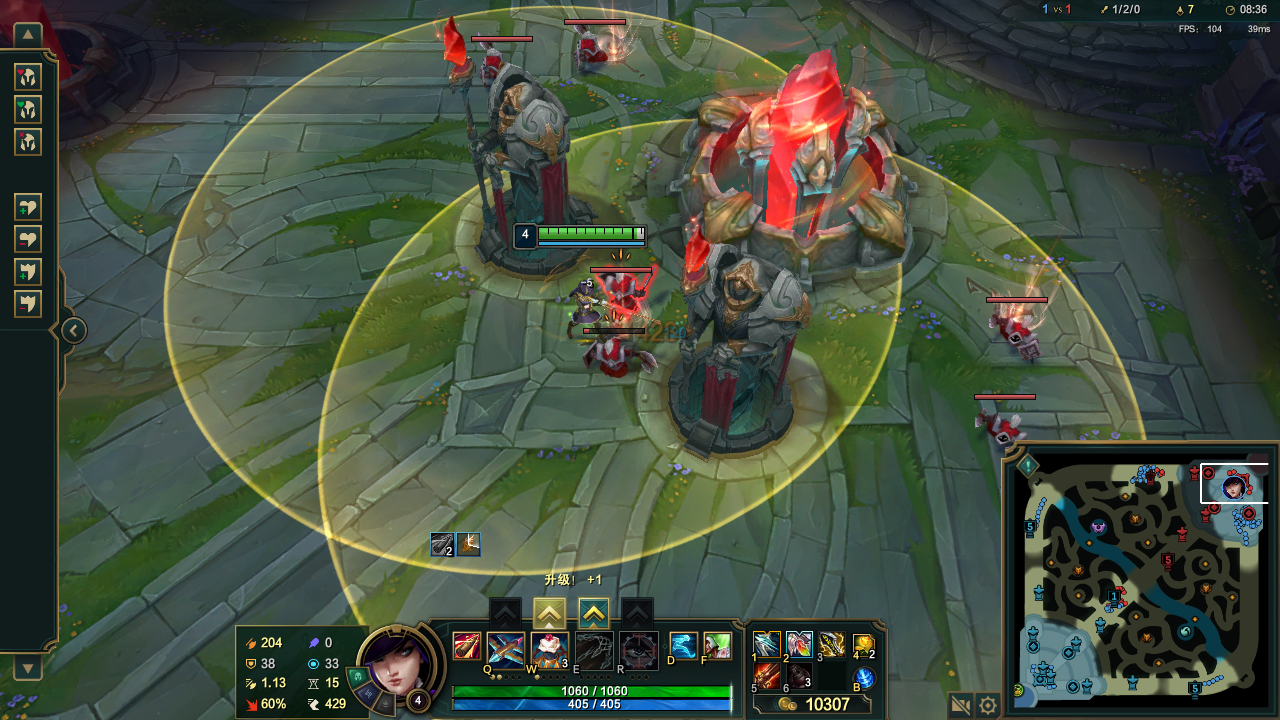DFDSJ: (678, 67, 903, 259)
DFFYT: (655, 246, 818, 469), (464, 76, 584, 267)
